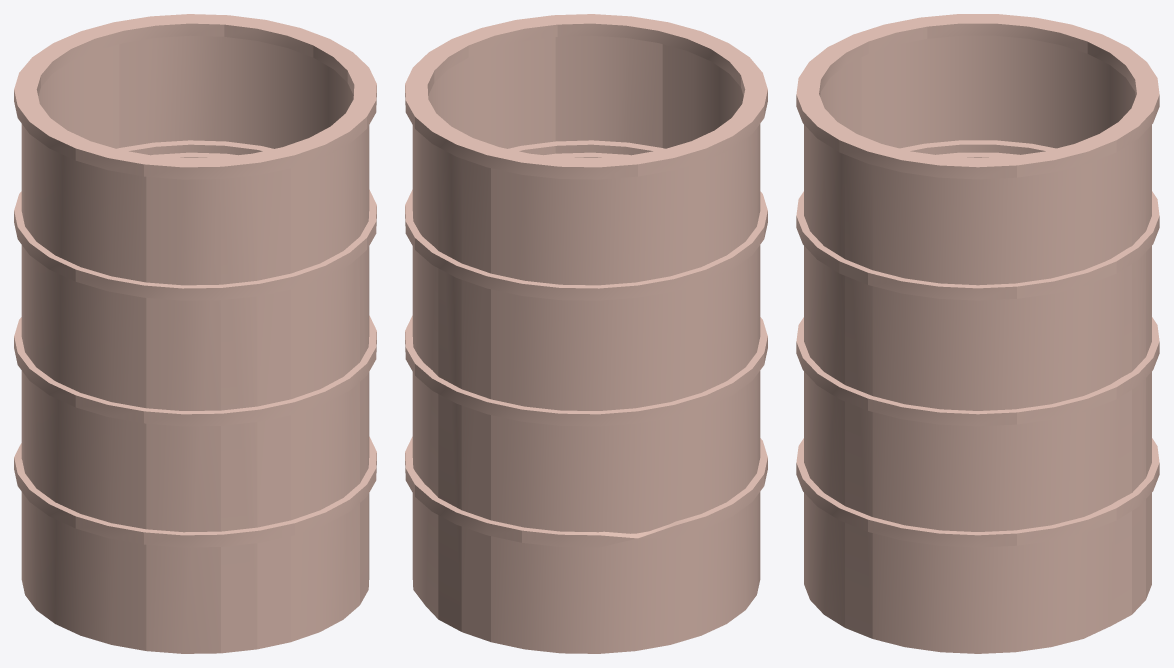
The model's file is Barrelrusted1.fbx.
3 renders of one model, left to right at view 1: azimuth 30°, elevation 25°; view 2: azimuth 150°, elevation 25°; view 3: azimuth 270°, elevation 25°, orthographic.
Visible parts, largest first — view 1: AF_barrel_rust; view 2: AF_barrel_rust; view 3: AF_barrel_rust.
Boxes of the visible parts, <box> form: AF_barrel_rust: <box>14,14,376,653</box>; AF_barrel_rust: <box>405,14,767,653</box>; AF_barrel_rust: <box>796,14,1159,653</box>.
Bounding box in the file's own units: 91.93 × 137 × 92.07.
